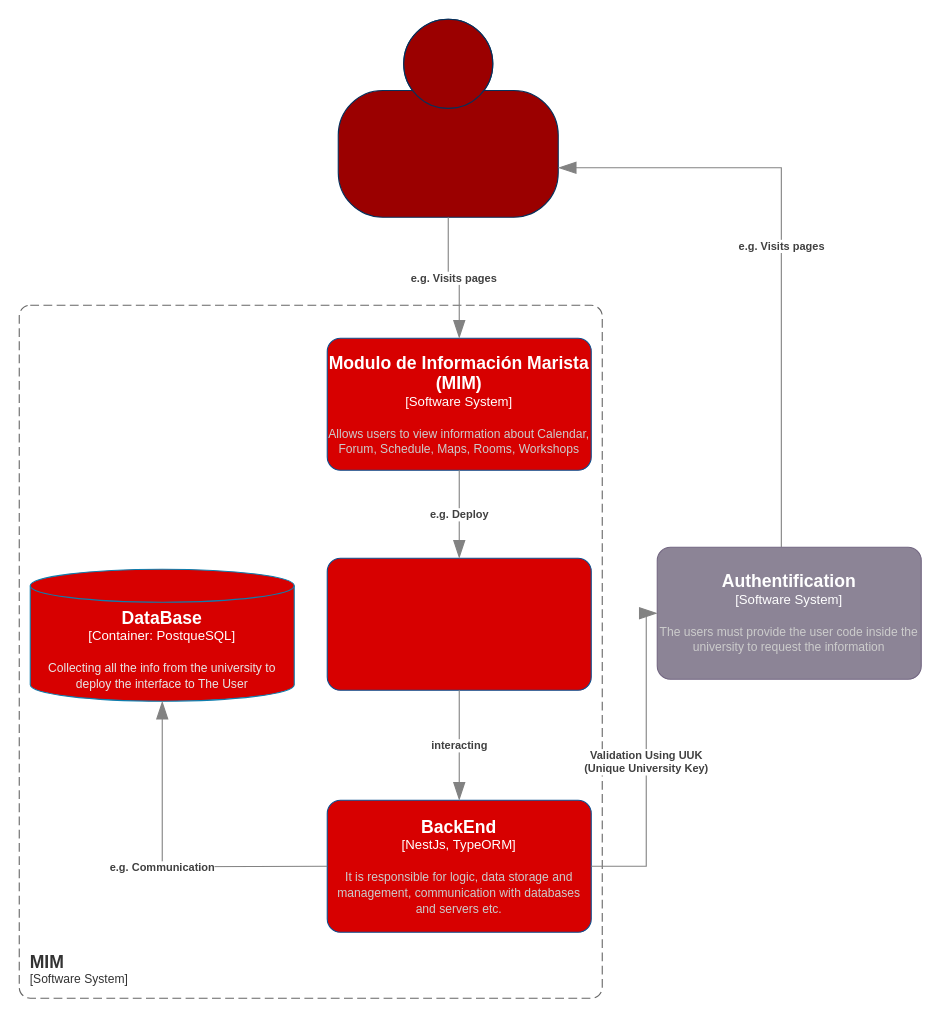
Image size: 941x1018. Some labels were removed from this diagram. Here are the shapes that lost their labels. From the top down, the centre of each, then its label:
At (447,117): "University Users [Person] A User from Marista's University in Guadalajara".
At (458,623): "FontEnd [ReactJs, Vite] UI, UX , API's".
